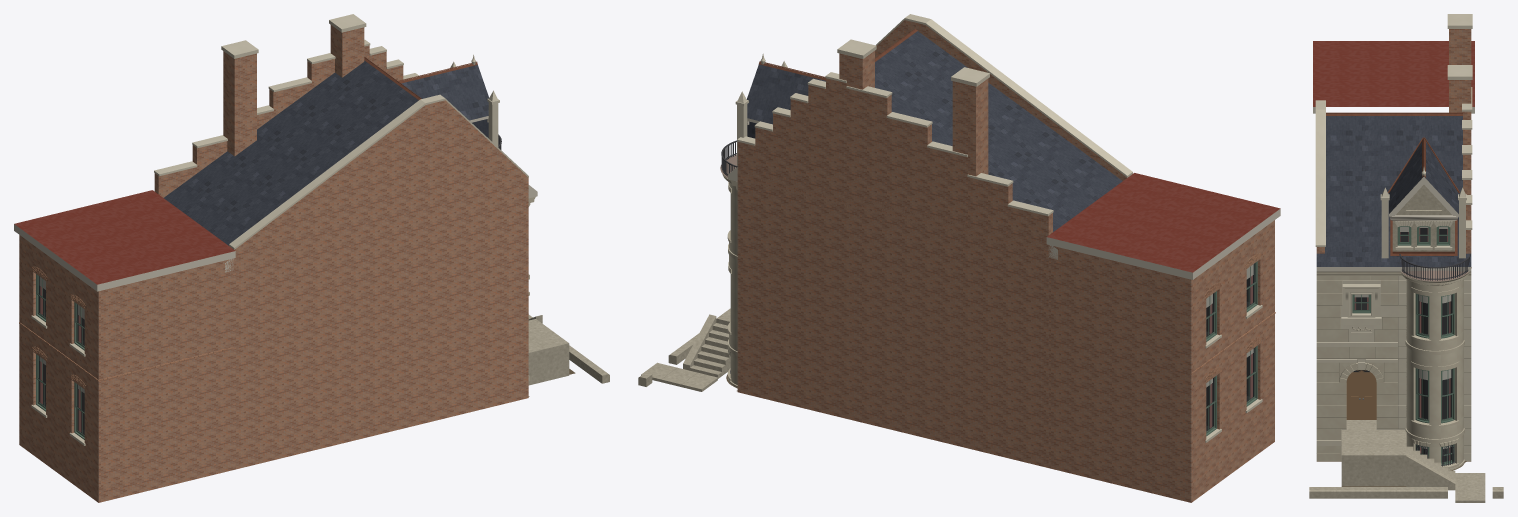
The model's file is house_1621_prairie__as_mapped_1904.glb.
3 views of the same model, side by side, from view 1: azimuth 30°, elevation 25°; view 2: azimuth 150°, elevation 25°; view 3: azimuth 270°, elevation 25° (orthographic). The views are drawn at different scales.
Parts seen in each view (by area): view 1: house_1621_prairie__as_mapped_1904; view 2: house_1621_prairie__as_mapped_1904; view 3: house_1621_prairie__as_mapped_1904.
Part boxes in pixels (x1,y1,x2,y2): house_1621_prairie__as_mapped_1904: (14,14,609,502); house_1621_prairie__as_mapped_1904: (638,14,1280,502); house_1621_prairie__as_mapped_1904: (1309,14,1503,502).
Bounding box in the file's own units: 23.35 × 15.08 × 7.8.
Materials: 27 (16 with a texture image).
